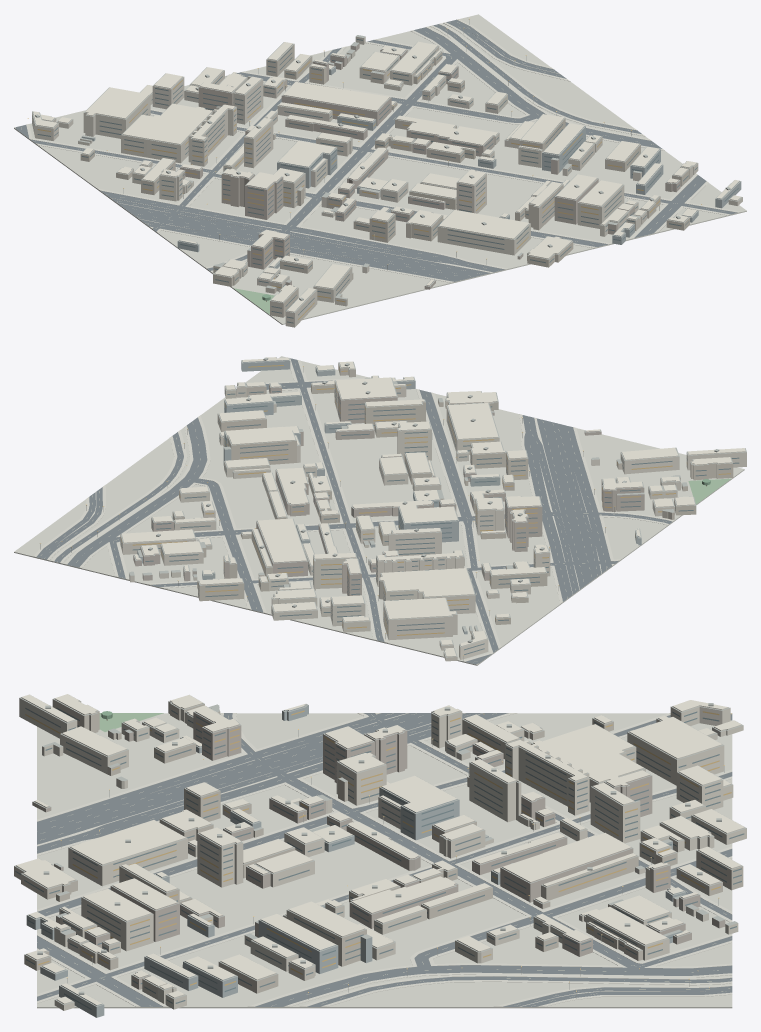
3 views of the same model, one above another, from view 1: azimuth 30°, elevation 25°; view 2: azimuth 150°, elevation 25°; view 3: azimuth 270°, elevation 25° (orthographic). The views are drawn at different scales.
Visible parts, largest first — view 1: city; view 2: city; view 3: city.
Part boxes in pixels (box(x1,y1,x2,y2)): city: box(14, 14, 746, 327); city: box(14, 356, 746, 665); city: box(14, 694, 746, 1017).
Bounding box in the file's own units: 530 × 34.85 × 527.
